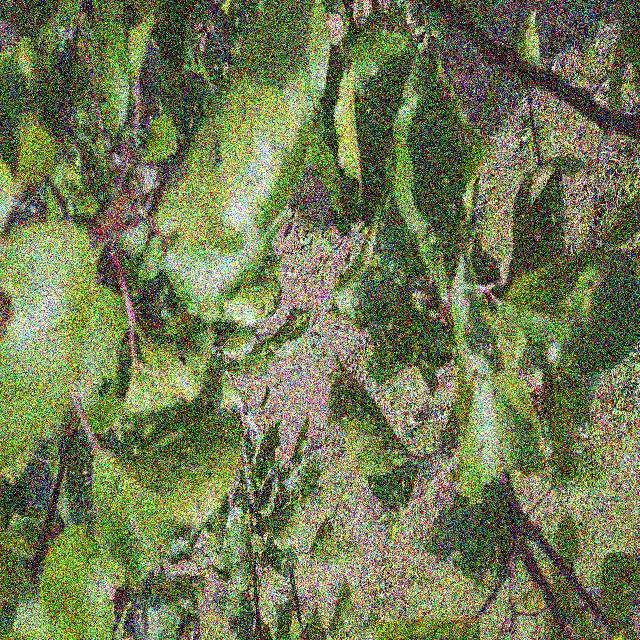shot_hole: (60, 322, 148, 558), (8, 41, 92, 218)
